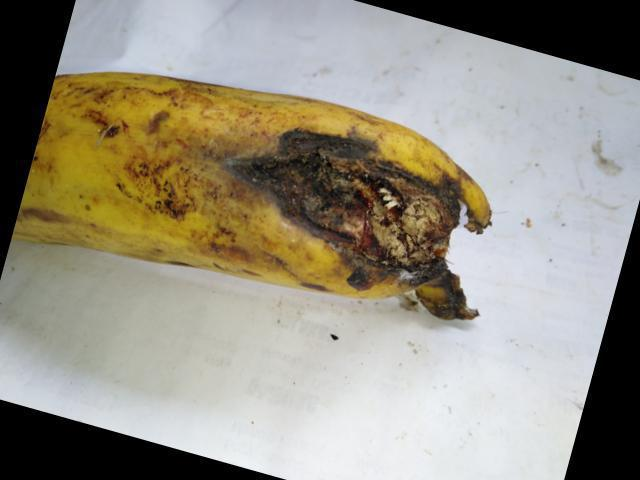rotten: (220, 97, 499, 332)
